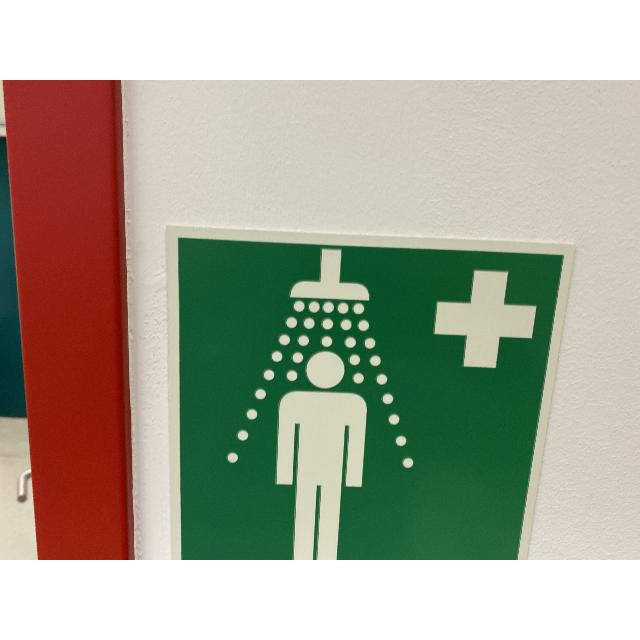shower: (167, 226, 576, 560)
